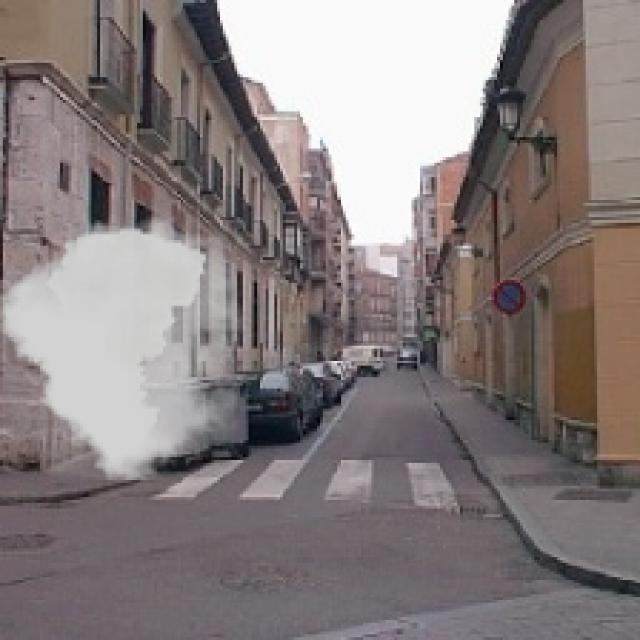Smoke: (0, 217, 243, 480)
